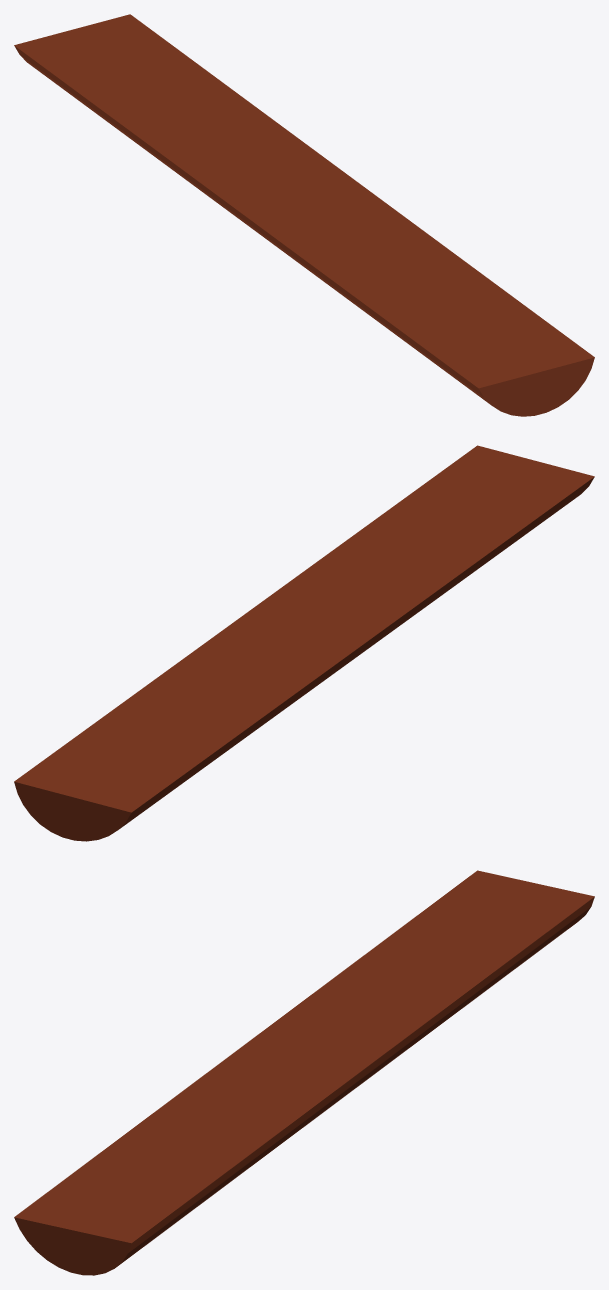
The model's file is HalfPipe2.fbx.
3 views of the same model, one above another, from view 1: azimuth 30°, elevation 25°; view 2: azimuth 150°, elevation 25°; view 3: azimuth 330°, elevation 25° (orthographic).
Visible parts, largest first — view 1: Cylinder; view 2: Cylinder; view 3: Cylinder.
Part boxes in pixels (x1,y1,x2,y2): Cylinder: (14,14,594,416); Cylinder: (14,445,594,841); Cylinder: (14,870,594,1275).
Size of the model in its own units: 530 by 210 by 3576.
